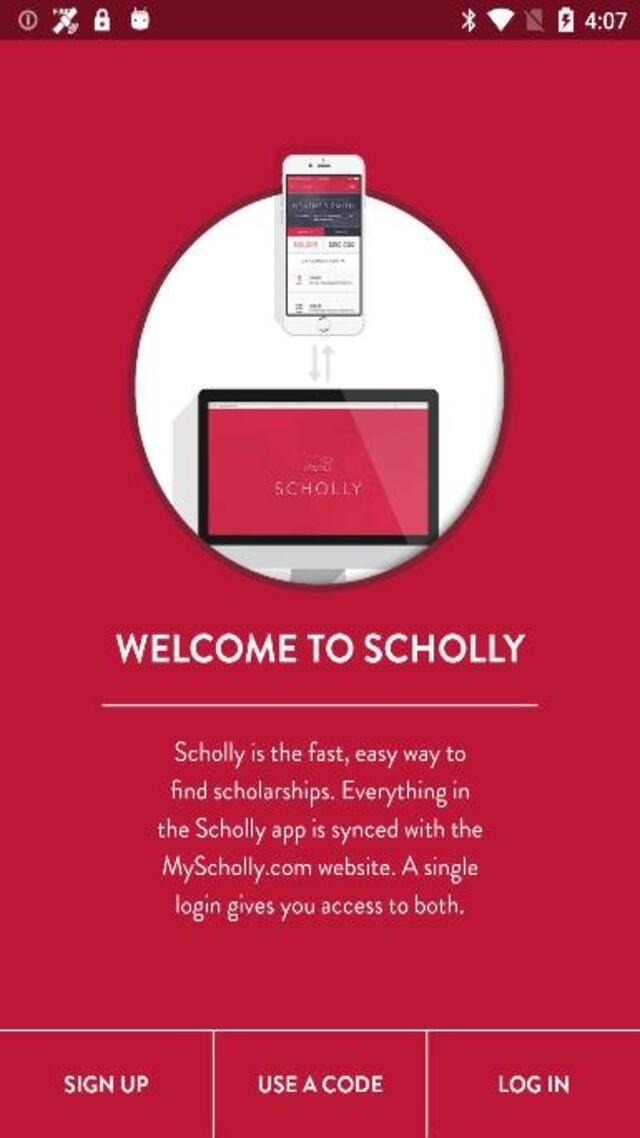Image: (127, 145, 511, 591)
Text: (116, 632, 526, 662), (156, 851, 483, 887), (152, 815, 490, 849), (164, 775, 474, 810), (166, 890, 464, 926), (156, 742, 475, 768), (252, 1069, 384, 1095), (487, 1069, 576, 1098), (58, 1071, 150, 1097)
TextButton: (215, 1029, 428, 1137), (427, 1029, 640, 1137), (0, 1029, 213, 1137)
